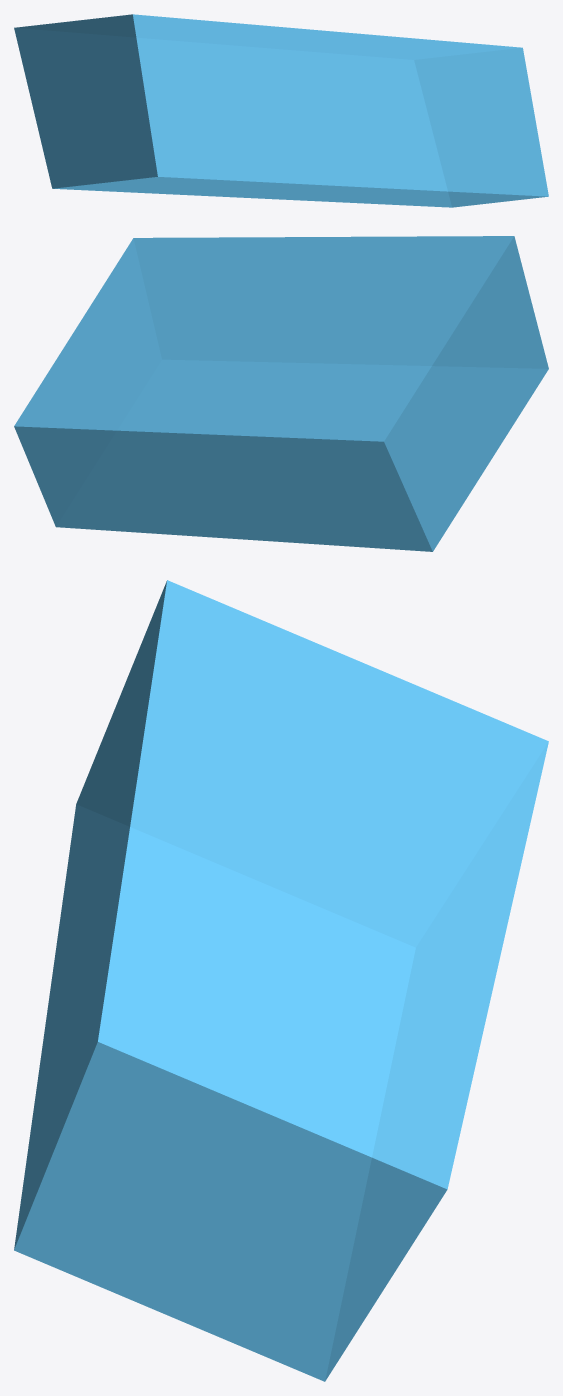
The model's file is Event_420107950_HErechit_51.fbx.
The picture shows the model from 3 angles, top to bottom: view 1: azimuth 30°, elevation 25°; view 2: azimuth 150°, elevation 25°; view 3: azimuth 270°, elevation 25°; orthographic projection. The views are drawn at different scales.
Visible parts, largest first — view 1: Model; view 2: Model; view 3: Model.
Part boxes in pixels (<box>): Model: <box>14,14,548,207</box>; Model: <box>14,236,548,551</box>; Model: <box>14,580,548,1381</box>.
Size of the model in its own units: 1.02 by 0.8398 by 0.7939.
